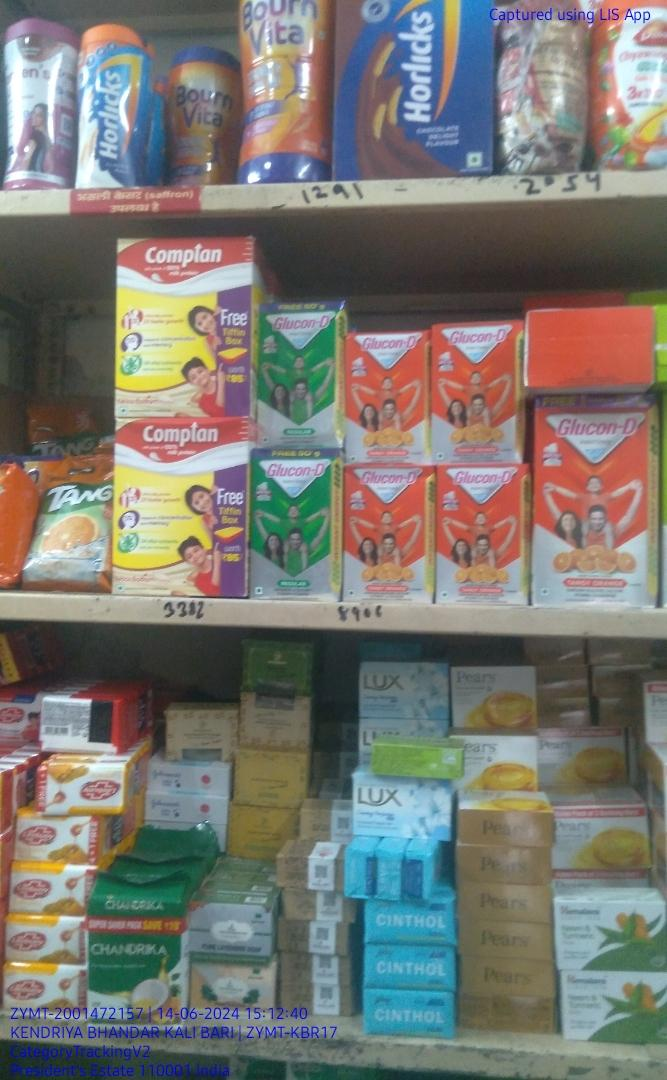BOURN_VITA_500_G_JAR: (240, 0, 329, 180)
COMPLAN_KESAR_BADAM_500_GMS_PACK: (117, 241, 251, 417), (116, 423, 245, 598)
HORLICK_CLASSIC_MALT_500_G_JAR: (75, 23, 153, 189)
